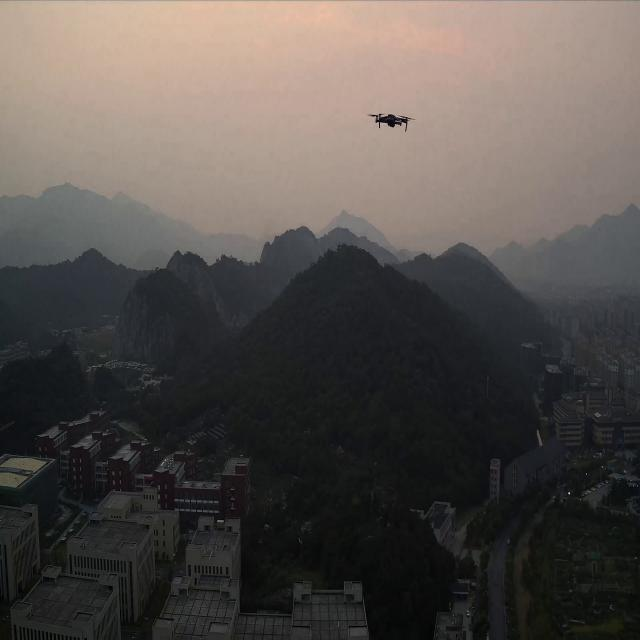UAV: (373, 112, 410, 133)
